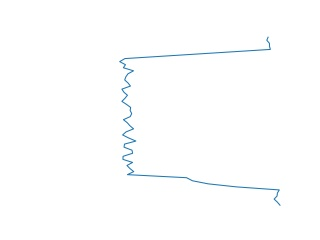distributaryChannelFill: (116, 36, 286, 205)
